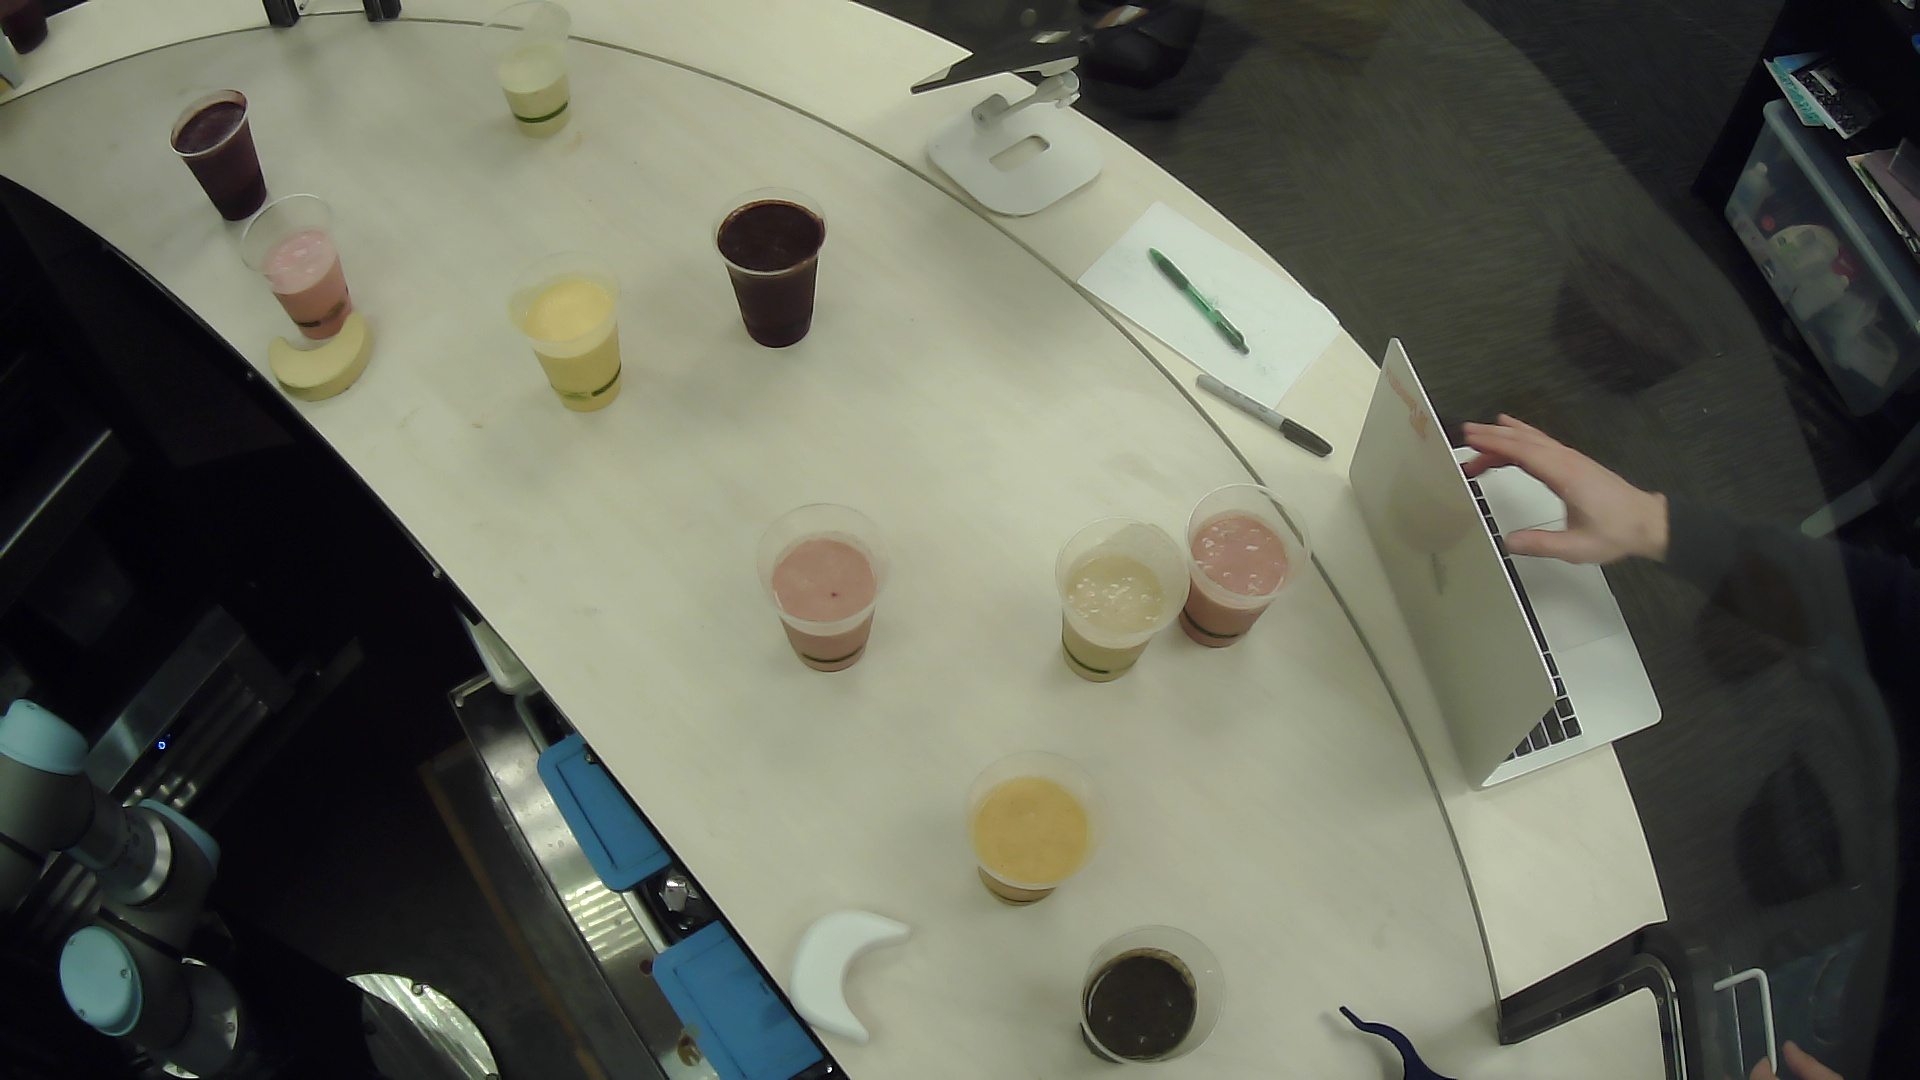Deliver: (775, 894, 944, 1056), (243, 301, 400, 419)
Full_cup: (948, 733, 1116, 928), (736, 495, 898, 694), (1055, 913, 1247, 1069), (1038, 502, 1189, 698), (225, 171, 373, 367), (498, 247, 645, 439), (1179, 465, 1309, 680), (699, 171, 845, 360), (162, 65, 282, 251), (463, 1, 601, 148)
